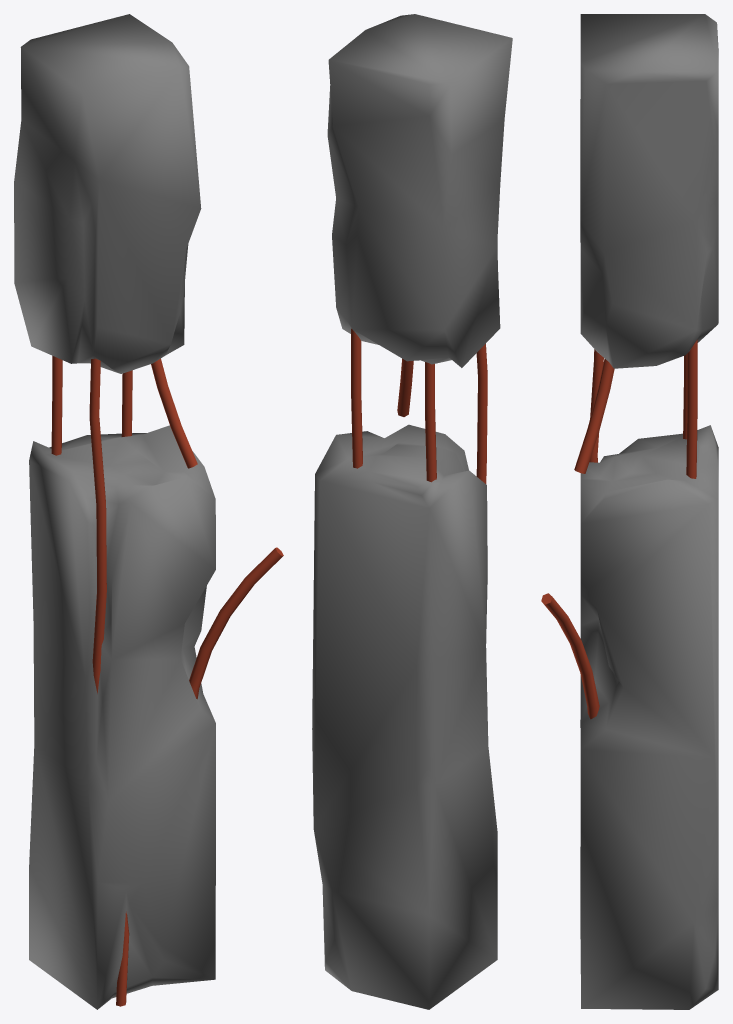
Rendered from SM_pillar_broken_05.fbx.
The picture shows the model from 3 angles, left to right: view 1: azimuth 30°, elevation 25°; view 2: azimuth 150°, elevation 25°; view 3: azimuth 270°, elevation 25°; orthographic projection.
Parts seen in each view (by area): view 1: Object32356; view 2: Object32356; view 3: Object32356.
Boxes of the visible parts, x1,y1,x2,y2 form: Object32356: [14, 14, 283, 1009]; Object32356: [312, 14, 512, 1009]; Object32356: [541, 14, 718, 1009].
Bounding box in the file's own units: 28.42 × 136 × 23.48.
